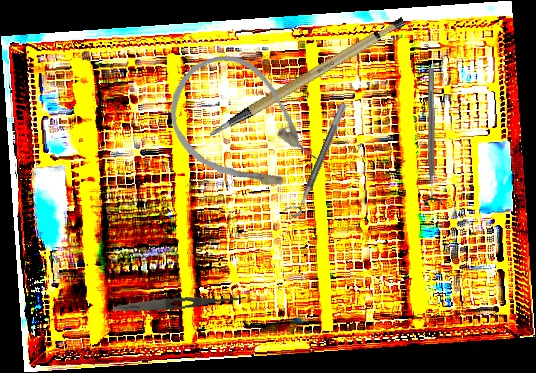Cannula: (148, 35, 337, 220)
Dressing Forceps: (112, 291, 247, 315)
Fixation Ring: (282, 98, 348, 220), (420, 67, 445, 206)
Scalpel Handle: (194, 14, 418, 138)
